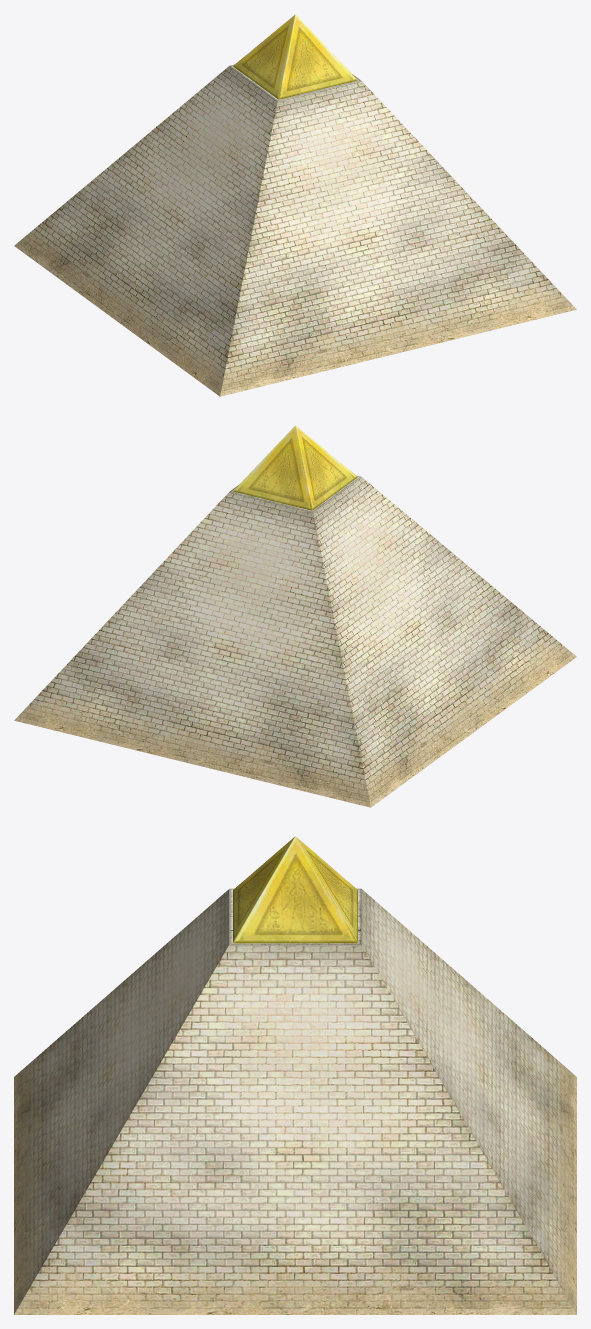
File: pyramid_minor.glb
3 renders of one model, top to bottom at view 1: azimuth 30°, elevation 25°; view 2: azimuth 150°, elevation 25°; view 3: azimuth 270°, elevation 25°, orthographic. The views are drawn at different scales.
Visible parts, largest first — view 1: pyramid_minor_part0; view 2: pyramid_minor_part0; view 3: pyramid_minor_part0.
Boxes of the visible parts, bbox=[...] form: pyramid_minor_part0: bbox=[14, 14, 576, 396]; pyramid_minor_part0: bbox=[14, 425, 576, 807]; pyramid_minor_part0: bbox=[14, 836, 576, 1314].
Size of the model in its own units: 5 by 3.53 by 5.
Materials: 1 (1 with a texture image).
